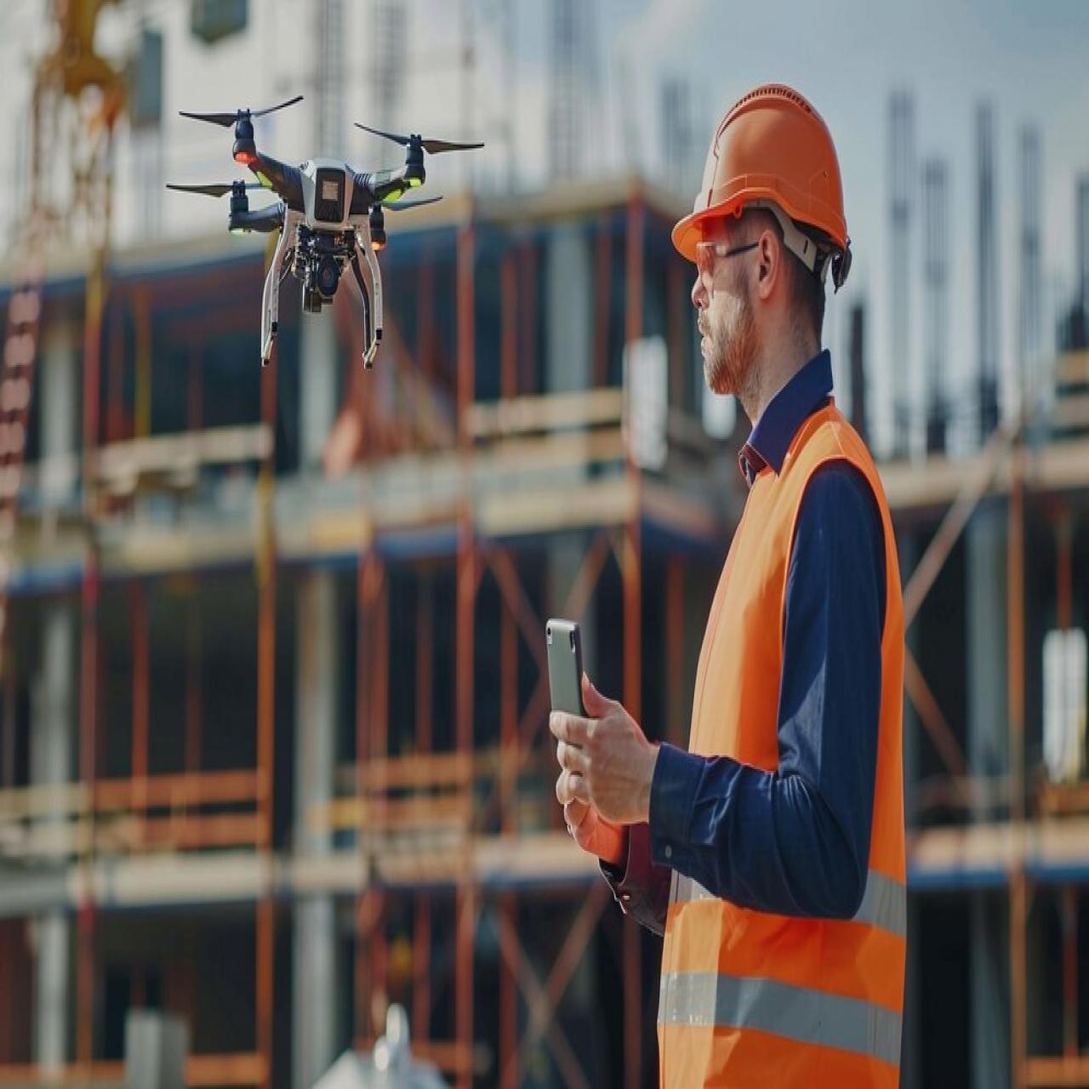Person: (544, 49, 936, 1089)
Safety_Vest: (640, 415, 917, 1089)
